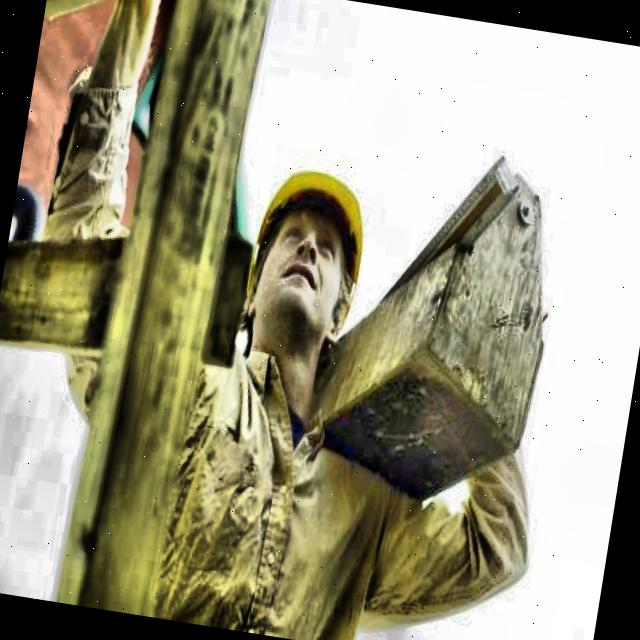helmet: (236, 164, 374, 362)
